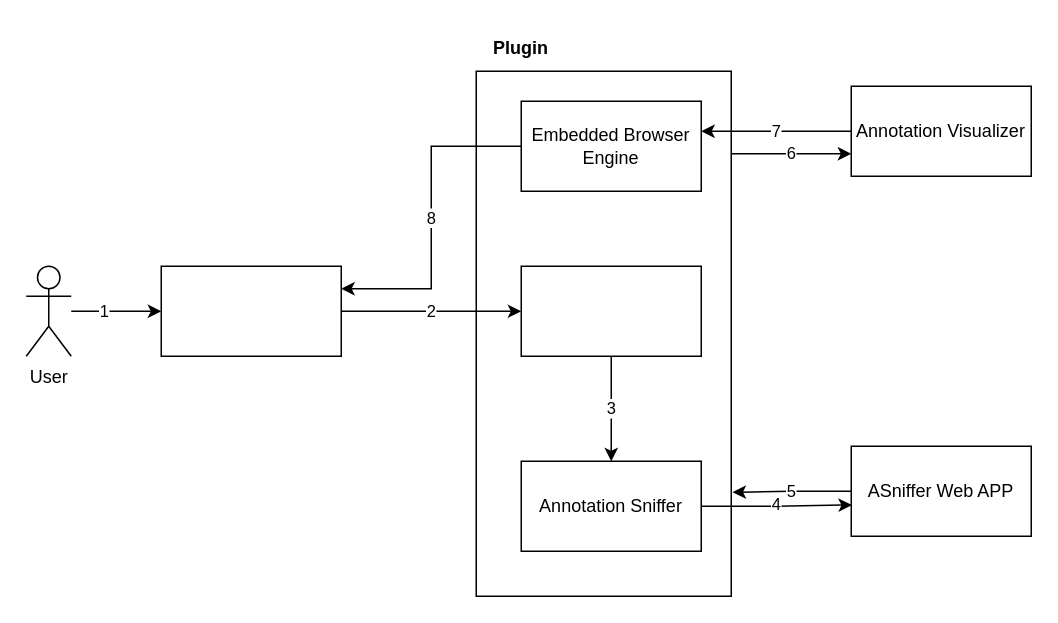
Some shapes in this 1058 by 623 pixel diagram are drawn without their labels. Here are the shapes that lost their labels. From the top down, the box of each, then its label:
(160, 265, 341, 356): IDE
(520, 265, 701, 356): Graphic Interface
